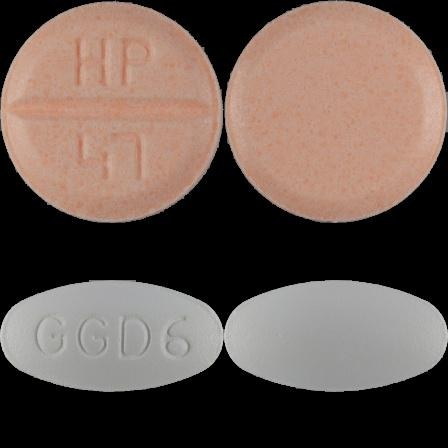35356-702: (0, 0, 224, 224)
